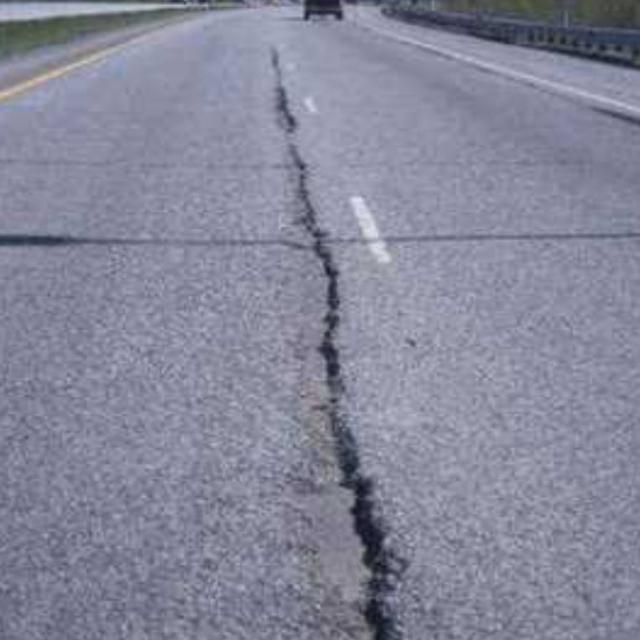Memanjang: (253, 32, 420, 640)
